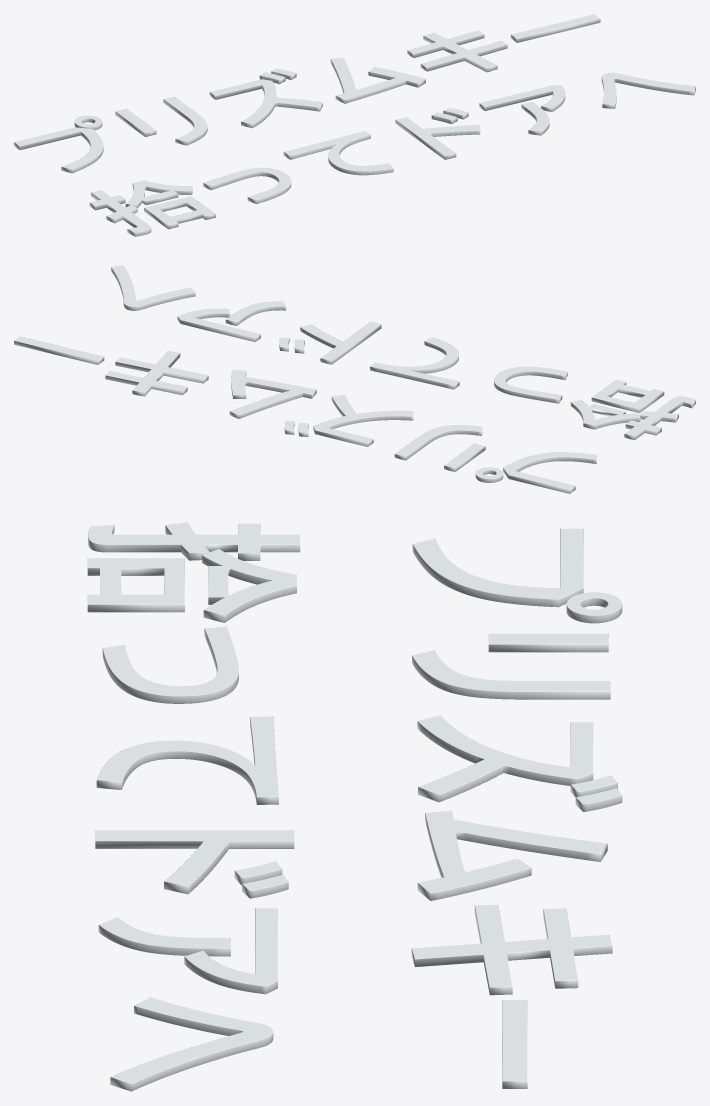
File: stage2_key.obj
3 renders of one model, top to bottom at view 1: azimuth 30°, elevation 25°; view 2: azimuth 150°, elevation 25°; view 3: azimuth 270°, elevation 25°, orthographic. The views are drawn at different scales.
Parts seen in each view (by area): view 1: stage2_key; view 2: stage2_key; view 3: stage2_key.
Part boxes in pixels (<box>): stage2_key: <box>14,14,695,236</box>; stage2_key: <box>14,265,695,493</box>; stage2_key: <box>87,522,622,1091</box>.
Bounding box in the file's own units: 2.53 × 0.0166 × 1.02.
Materials: 1 (1 with a texture image).
